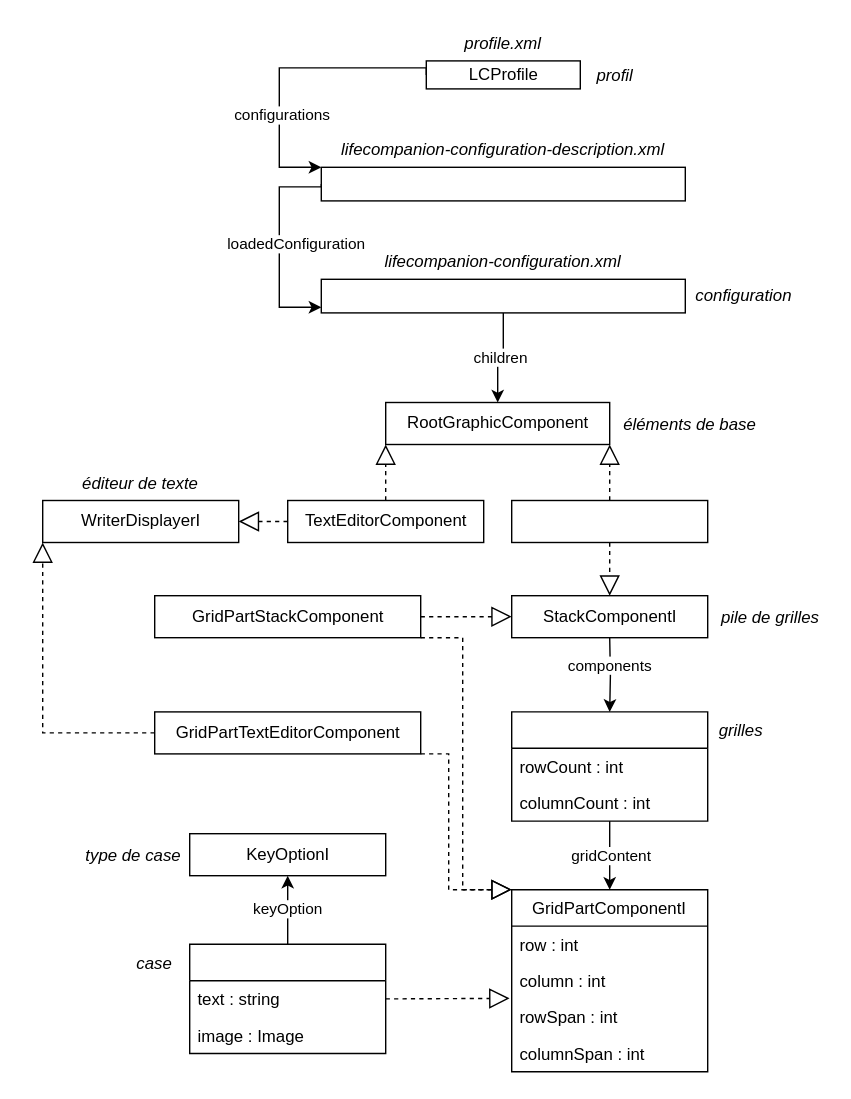
Image size: 851x1099. Some labels were removed from this diagram. Here are the shapes that lost their labels. From the top down, the box of each, then its label:
(320, 166, 685, 201): LCConfigurationDescriptionComponent
(320, 278, 685, 313): LCConfigurationComponent
(510, 499, 708, 542): StackComponent
(510, 710, 708, 821): GridComponentI
(188, 943, 386, 1054): GridPartKeyComponent
